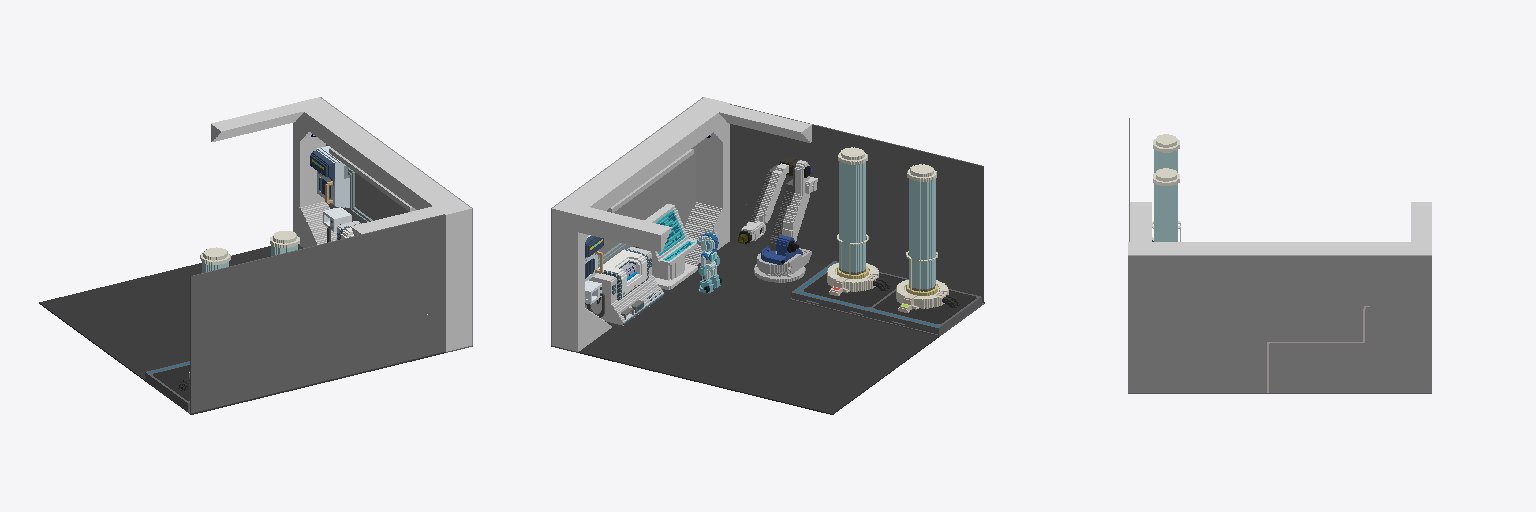
The picture shows the model from 3 angles: view 1: azimuth 30°, elevation 25°; view 2: azimuth 150°, elevation 25°; view 3: azimuth 270°, elevation 25°; orthographic projection.
Visible parts, largest first — view 1: object 1; view 2: object 1; view 3: object 1.
Part boxes in pixels (x1,y1,x2,y2): object 1: (39,97,472,414); object 1: (551,97,984,414); object 1: (1128,118,1431,393).
Size of the model in its own units: 25.6 by 12 by 24.
1 materials, 1 textured.